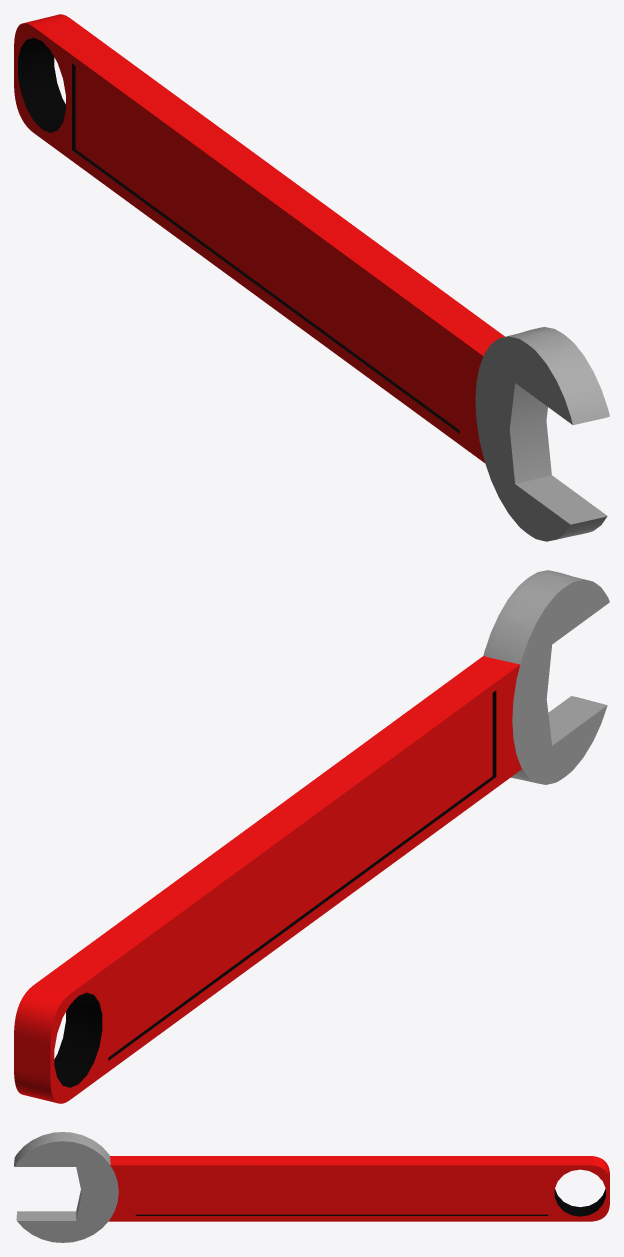
Rendered from Wrench.FBX.
The picture shows the model from 3 angles, top to bottom: view 1: azimuth 30°, elevation 25°; view 2: azimuth 150°, elevation 25°; view 3: azimuth 270°, elevation 25°; orthographic projection. The views are drawn at different scales.
Parts seen in each view (by area): view 1: Wrench, Wrench_Head; view 2: Wrench, Wrench_Head; view 3: Wrench, Wrench_Head.
Boxes of the visible parts, x1=… form: Wrench: x1=14, y1=14, x2=504, y2=462; Wrench_Head: x1=475, y1=327, x2=609, y2=541; Wrench: x1=14, y1=656, x2=521, y2=1103; Wrench_Head: x1=483, y1=570, x2=609, y2=784; Wrench: x1=108, y1=1156, x2=609, y2=1221; Wrench_Head: x1=14, y1=1132, x2=118, y2=1242.
Size of the model in its own units: 1.05 by 5.24 by 27.71.
